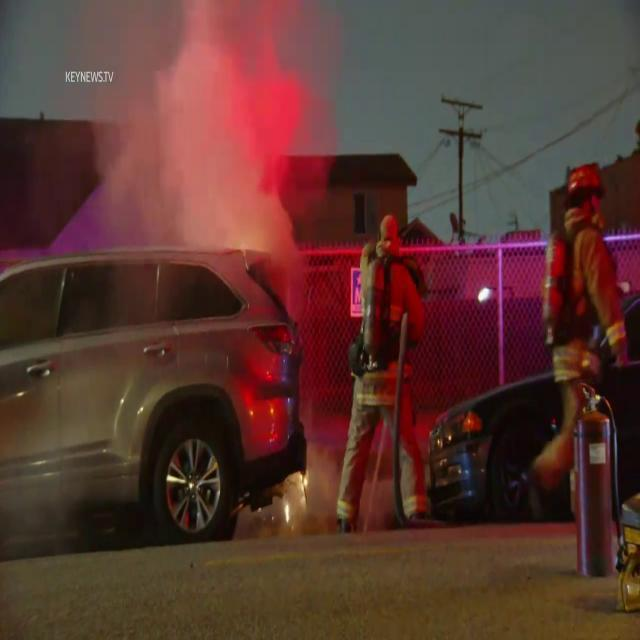Fire: (79, 21, 321, 263)
